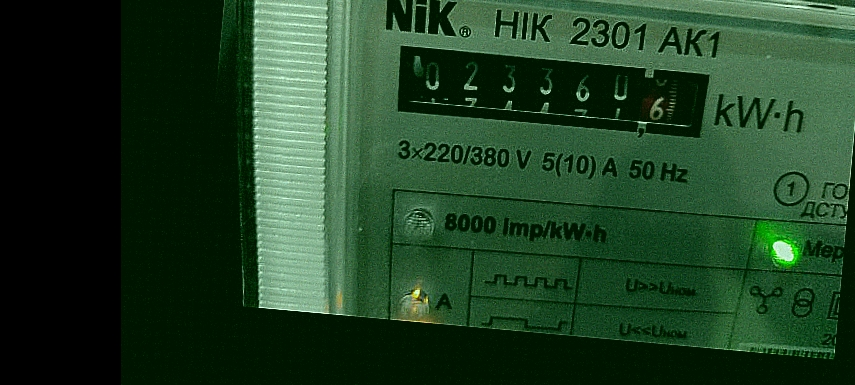0: (420, 57, 444, 92), (611, 70, 631, 102)
2: (458, 57, 484, 93)
3: (496, 61, 520, 95), (535, 63, 557, 96)
6: (571, 70, 594, 103), (644, 91, 668, 122)
screen: (375, 26, 724, 155)
